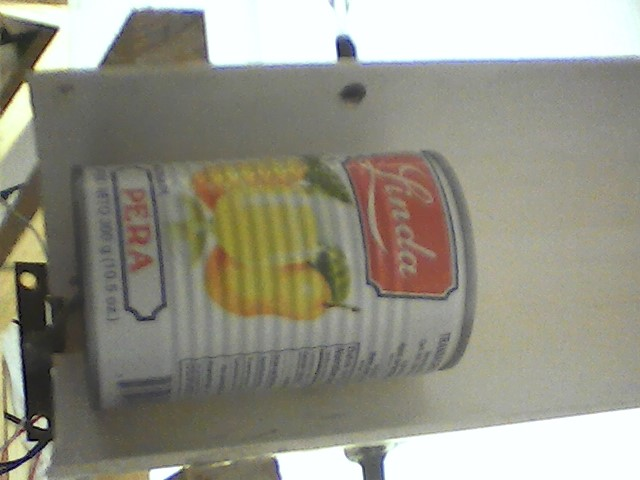lata: (64, 147, 488, 418)
